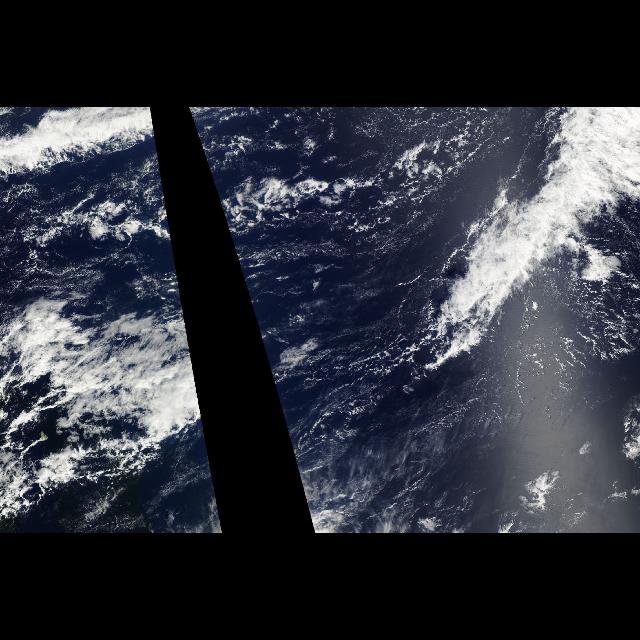Gravel: (213, 112, 491, 278), (35, 184, 179, 278), (428, 388, 538, 442)
Sugar: (522, 282, 638, 428)
